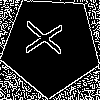X: (25, 20, 72, 56)
